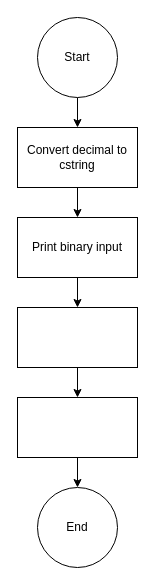
The diagram is 155 pixels wide and 585 high, and some of its shapes have lost their labels. Each missing label, with the box of its shape:
Print arrow: (16, 306, 138, 368)
Print decimal cstring: (16, 396, 138, 458)
